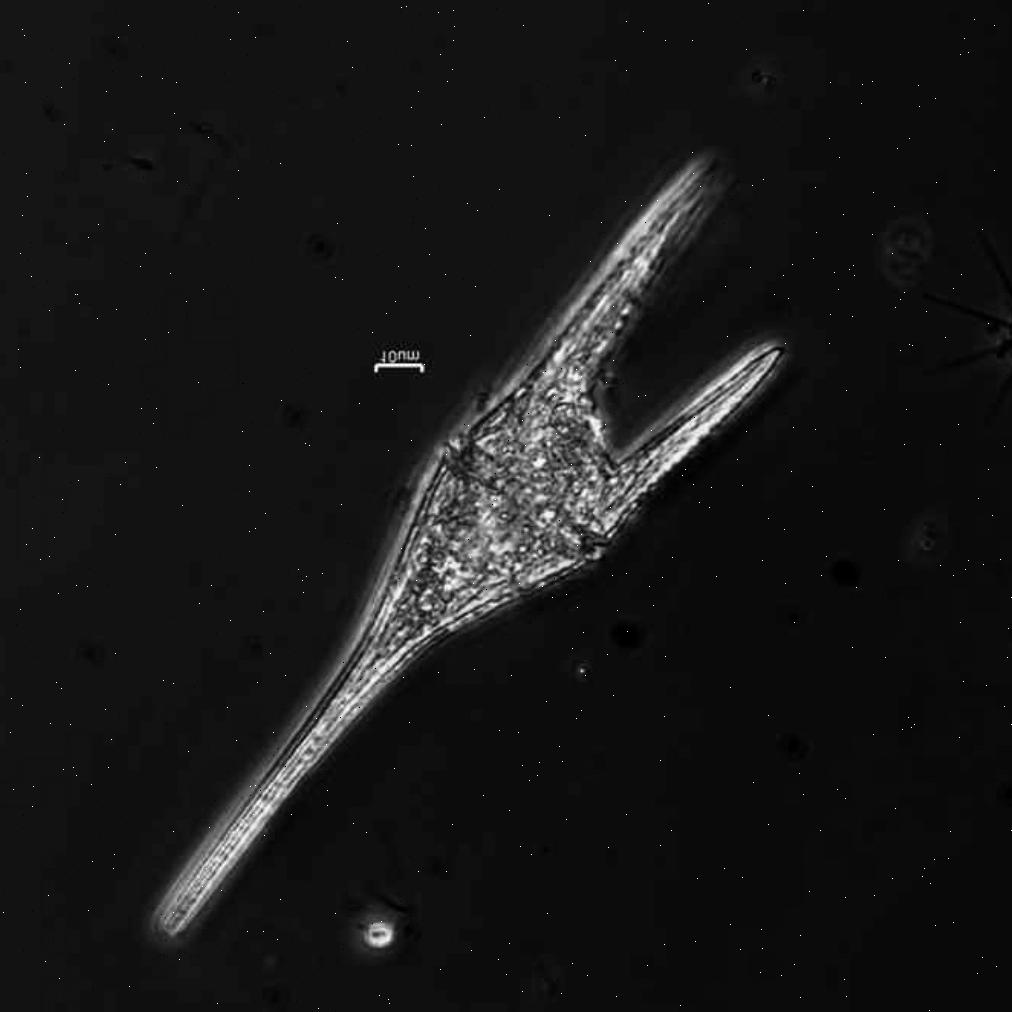ceratium_furca: (155, 158, 784, 940)
